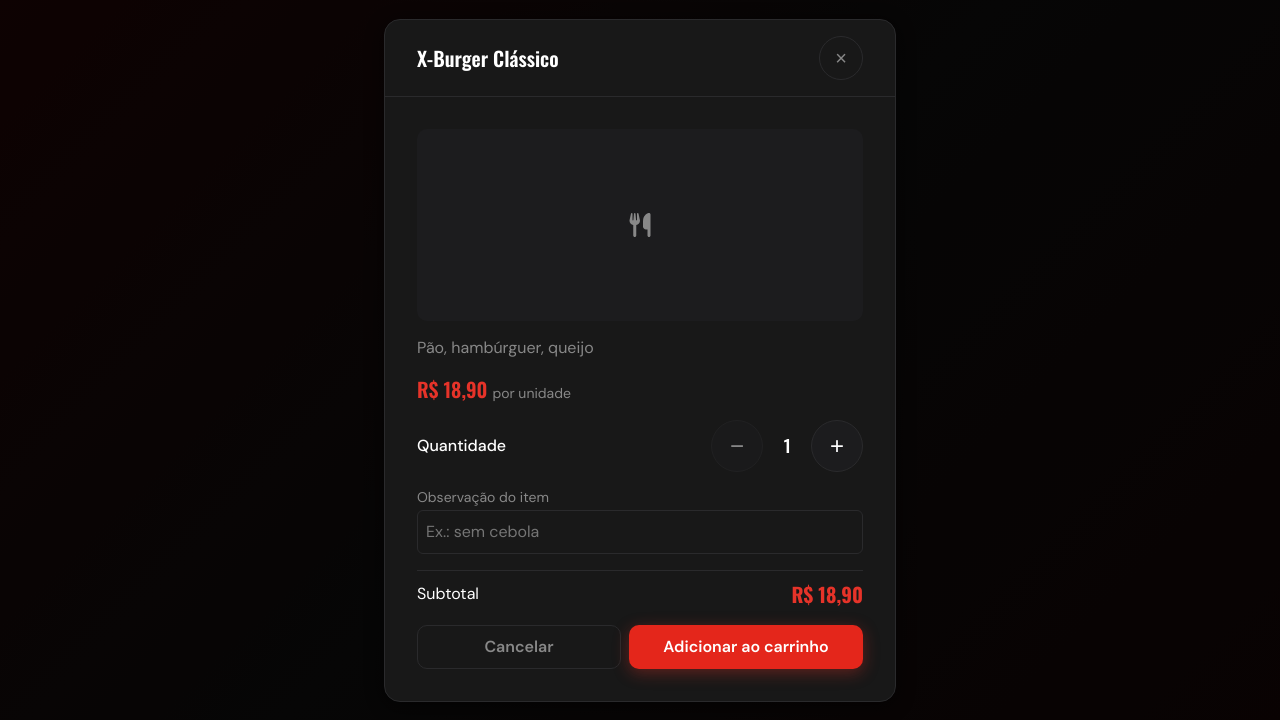
Test: ProductSelectionModal › aumenta a quantidade e recalcula o subtotal
This screenshot has width=1280, height=720.
Click the button named "Aumentar quantidade".
click(837, 446)  # box [811,420,863,472]
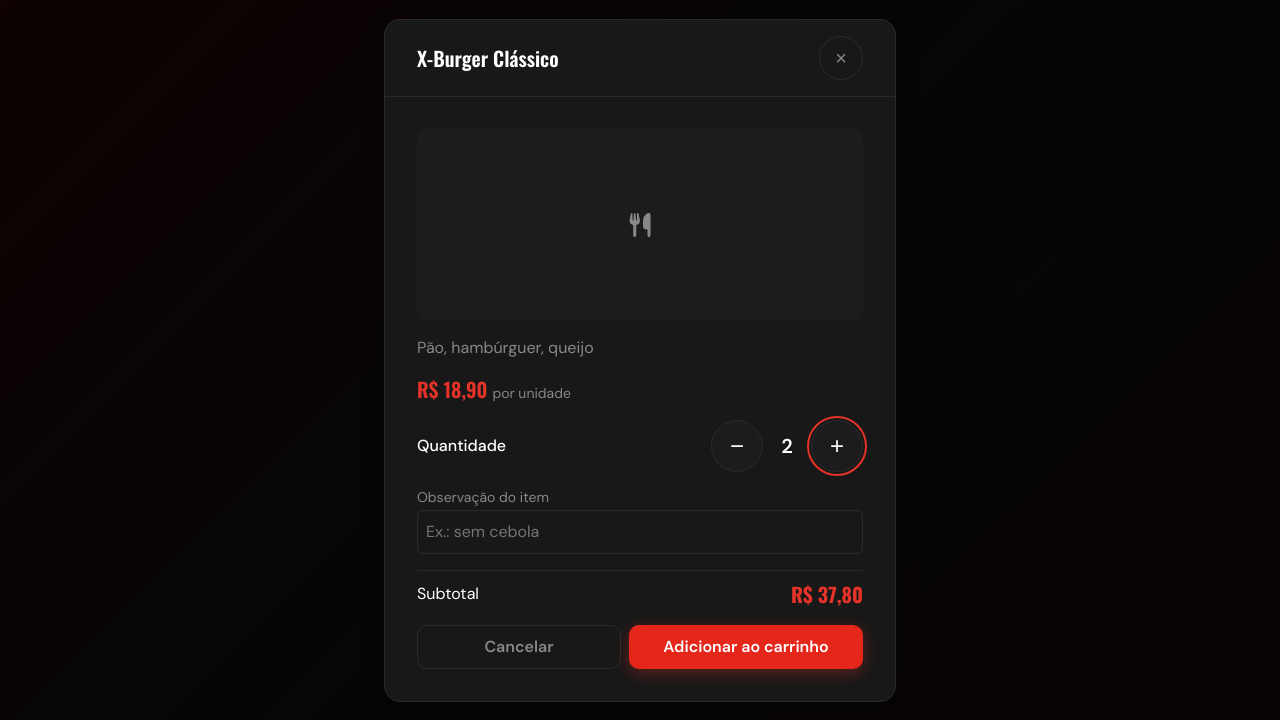
Click the button named "Aumentar quantidade".
click(837, 446)  # box [811,420,863,472]
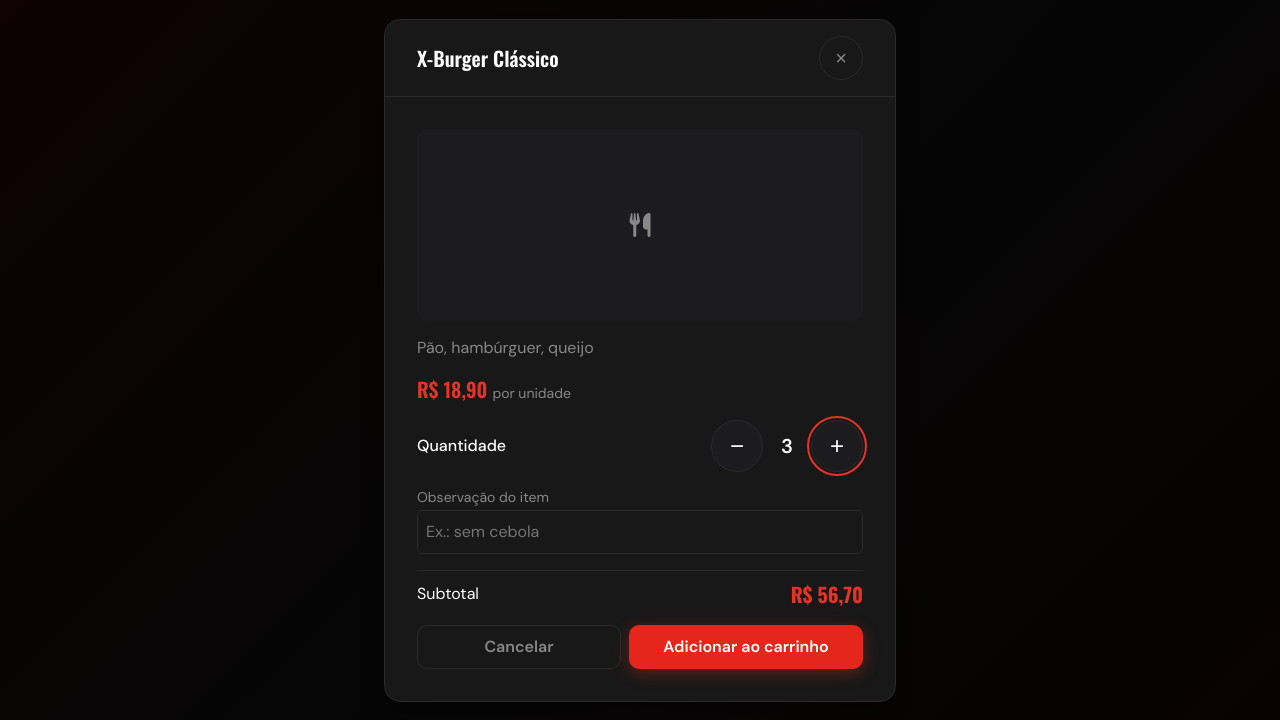
expect the text "3" is shown: met, box [781,432,793,458]
expect the text "R$ 56,70" is shown: met, box [791,578,863,608]
